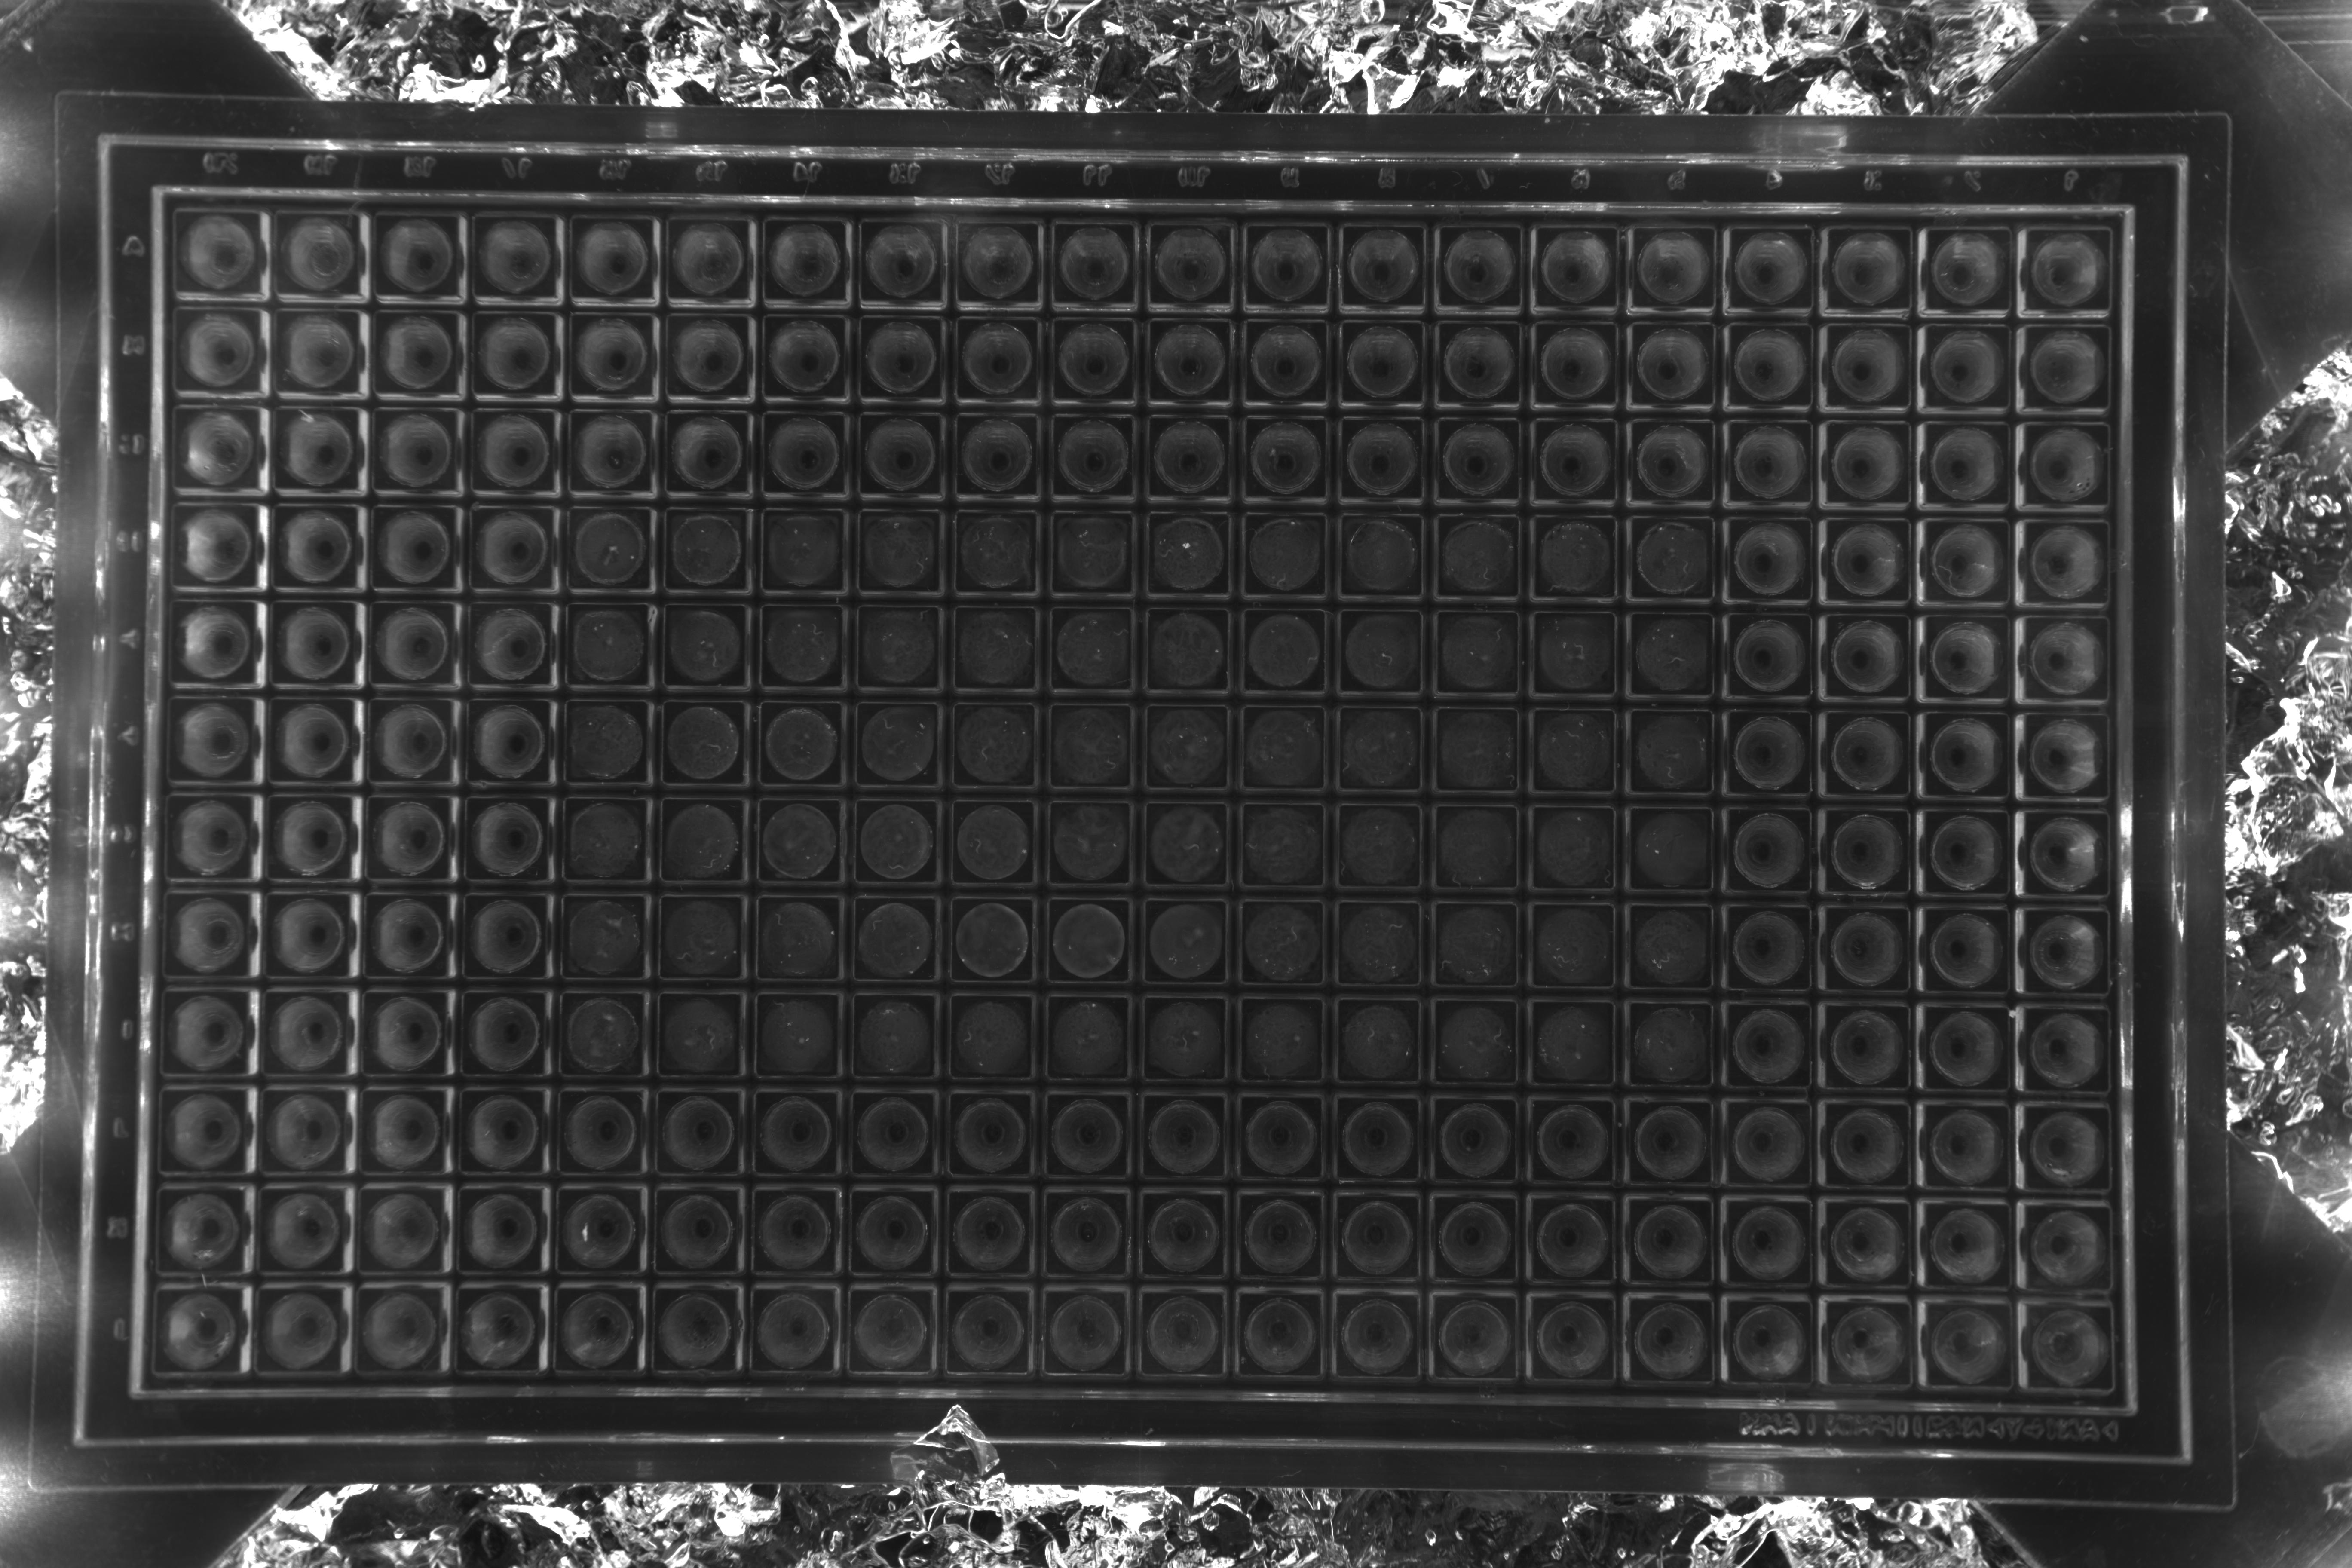WM_well: (201, 845, 290, 933), (689, 947, 779, 1034), (401, 458, 488, 546), (401, 555, 488, 642), (693, 558, 780, 646), (782, 1339, 870, 1426), (784, 1239, 871, 1326), (884, 1141, 971, 1228), (983, 656, 1071, 744), (1080, 947, 1167, 1034), (1080, 754, 1167, 842), (1176, 1339, 1263, 1426), (1272, 269, 1360, 357), (1274, 1143, 1361, 1230), (1368, 269, 1456, 357), (1468, 948, 1556, 1036), (1561, 269, 1648, 357), (1661, 464, 1748, 551), (1662, 656, 1750, 744), (1766, 1347, 1853, 1435), (1857, 268, 1944, 355), (1858, 560, 1946, 647), (1956, 462, 2044, 549), (2058, 658, 2145, 745)
